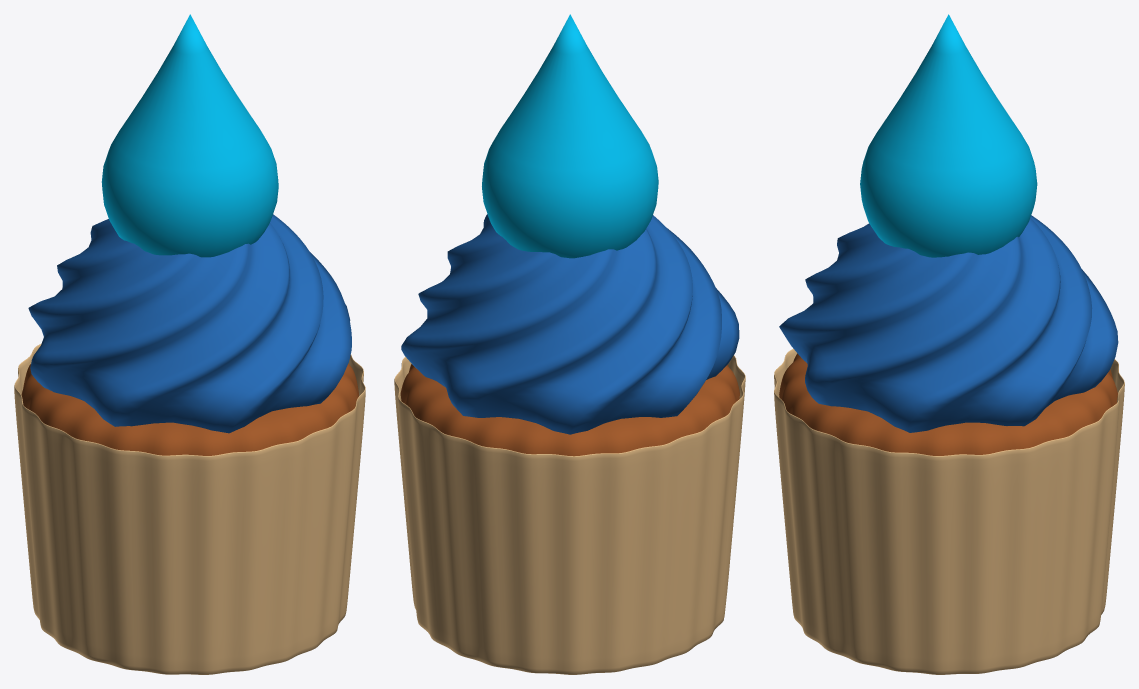
The model's file is cupcake_water.fbx.
3 renders of one model, left to right at view 1: azimuth 30°, elevation 25°; view 2: azimuth 150°, elevation 25°; view 3: azimuth 270°, elevation 25°, orthographic.
Visible parts, largest first — view 1: Cake.001; view 2: Cake.001; view 3: Cake.001.
Boxes of the visible parts, <box> form: Cake.001: <box>14,14,365,674</box>; Cake.001: <box>394,14,745,674</box>; Cake.001: <box>774,14,1124,674</box>.
Size of the model in its own units: 225 by 421 by 224.
